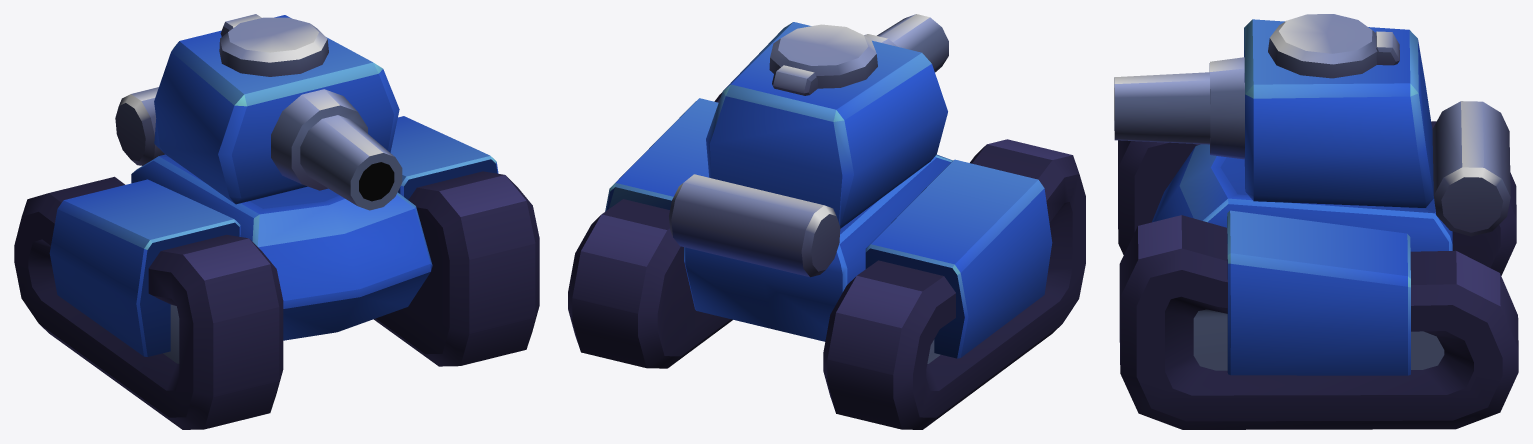
File: Unit_Tank_Blue.fbx
3 views of the same model, side by side, from view 1: azimuth 30°, elevation 25°; view 2: azimuth 150°, elevation 25°; view 3: azimuth 270°, elevation 25° (orthographic). The views are drawn at different scales.
Visible parts, largest first — view 1: Tank_blue_01; view 2: Tank_blue_01; view 3: Tank_blue_01.
Boxes of the visible parts, x1,y1,x2,y2 form: Tank_blue_01: (14,14,539,429); Tank_blue_01: (568,14,1085,429); Tank_blue_01: (1114,14,1518,429).
Bounding box in the file's own units: 0.8582 × 0.7845 × 0.678.
